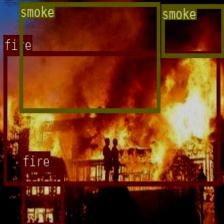fire: (4, 51, 220, 186), (21, 166, 62, 224)
smoke: (19, 2, 159, 111), (161, 4, 224, 57)
